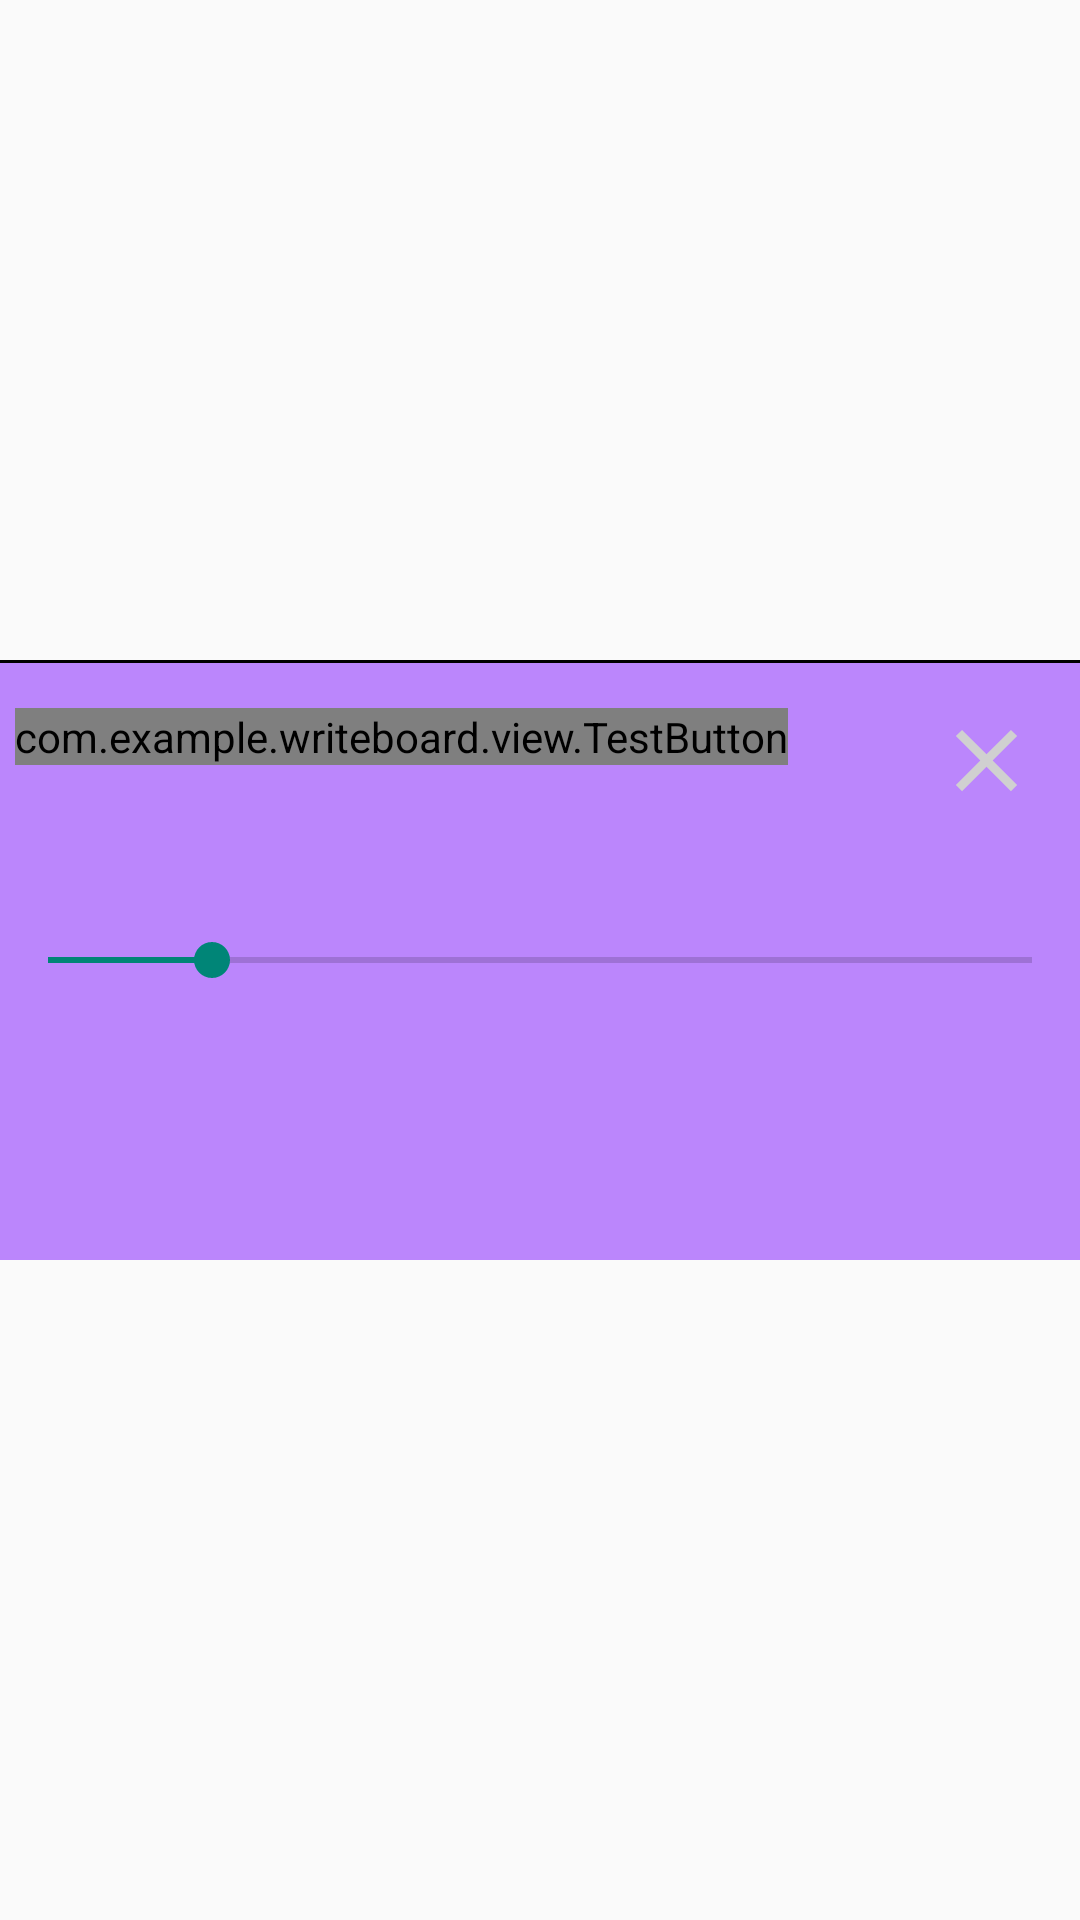

Where icons sit on this 1080 × 1920 app screen, as (x1, y1, x2, y2):
clear: (956, 730, 1017, 791)
